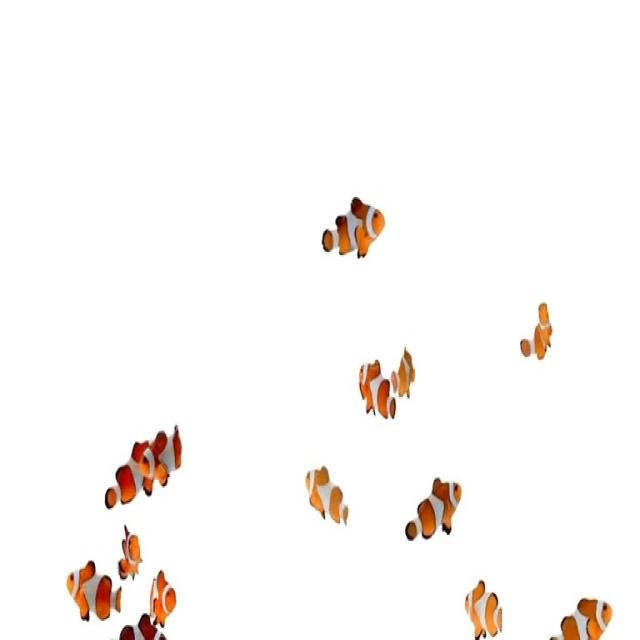fish: (392, 469, 482, 553), (321, 184, 388, 274), (64, 549, 122, 633), (354, 354, 405, 443), (300, 459, 364, 528), (103, 436, 159, 511), (547, 579, 614, 640), (514, 292, 558, 378), (454, 570, 504, 640), (140, 420, 190, 488), (384, 341, 424, 403), (148, 568, 187, 621), (114, 524, 147, 576)
